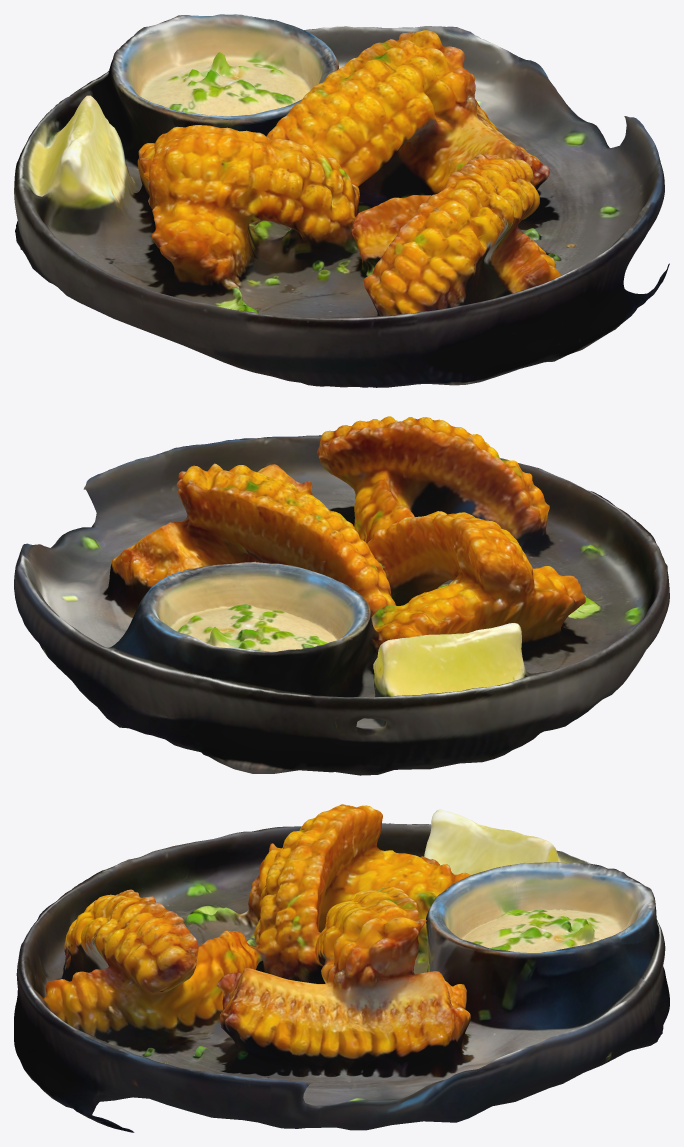
File: corn_ribs_vegan_3d_scan.glb
3 renders of one model, top to bottom at view 1: azimuth 30°, elevation 25°; view 2: azimuth 150°, elevation 25°; view 3: azimuth 270°, elevation 25°, orthographic.
Visible parts, largest first — view 1: ObjectCapture; view 2: ObjectCapture; view 3: ObjectCapture.
Part boxes in pixels (box(x1,y1,x2,y2)): ObjectCapture: box(14, 14, 669, 387); ObjectCapture: box(14, 416, 669, 775); ObjectCapture: box(14, 804, 669, 1132).
Bounding box in the file's own units: 0.8238 × 0.2517 × 0.8411.
1 material, 1 textured.
